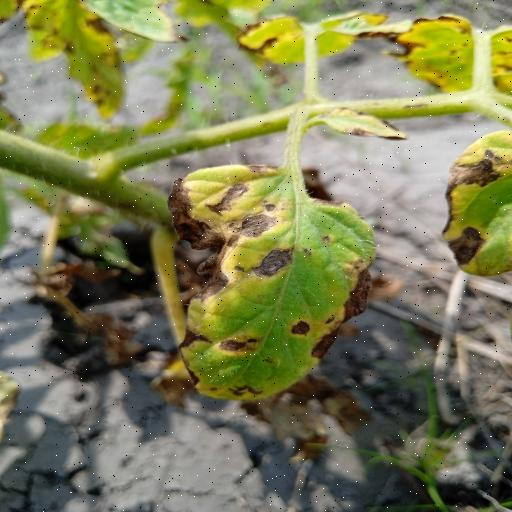Tomato_Brown_Spots: (163, 155, 383, 410)
